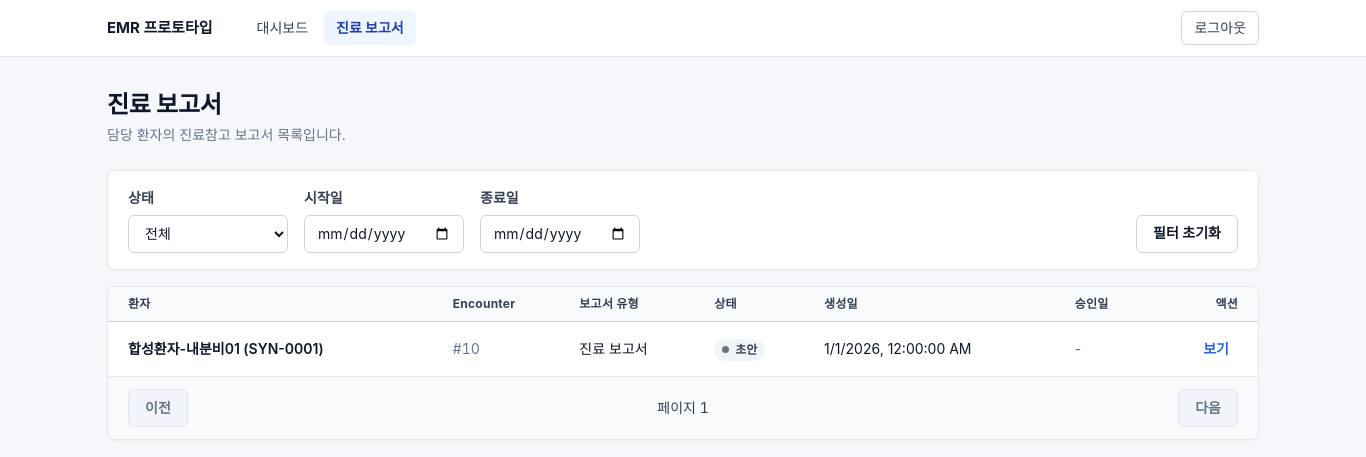
Test: DoctorReportsPage › shows a loading state while refetching after a filter change
expect the table is shown: met, box 108,287 -> 1258,376
Step 1. Select "승인됨" in the dropdown labelled "상태" → (208, 234), box 128,215 -> 288,253
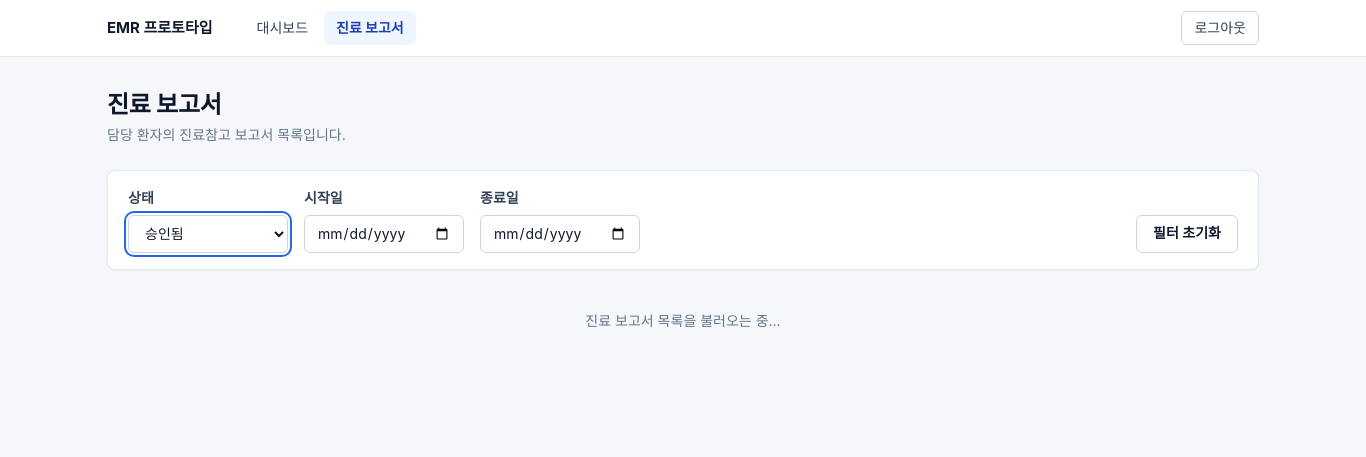
expect the text "진료 보고서 목록을 불러오는 중..." is shown: met, box 585,312 -> 781,329
